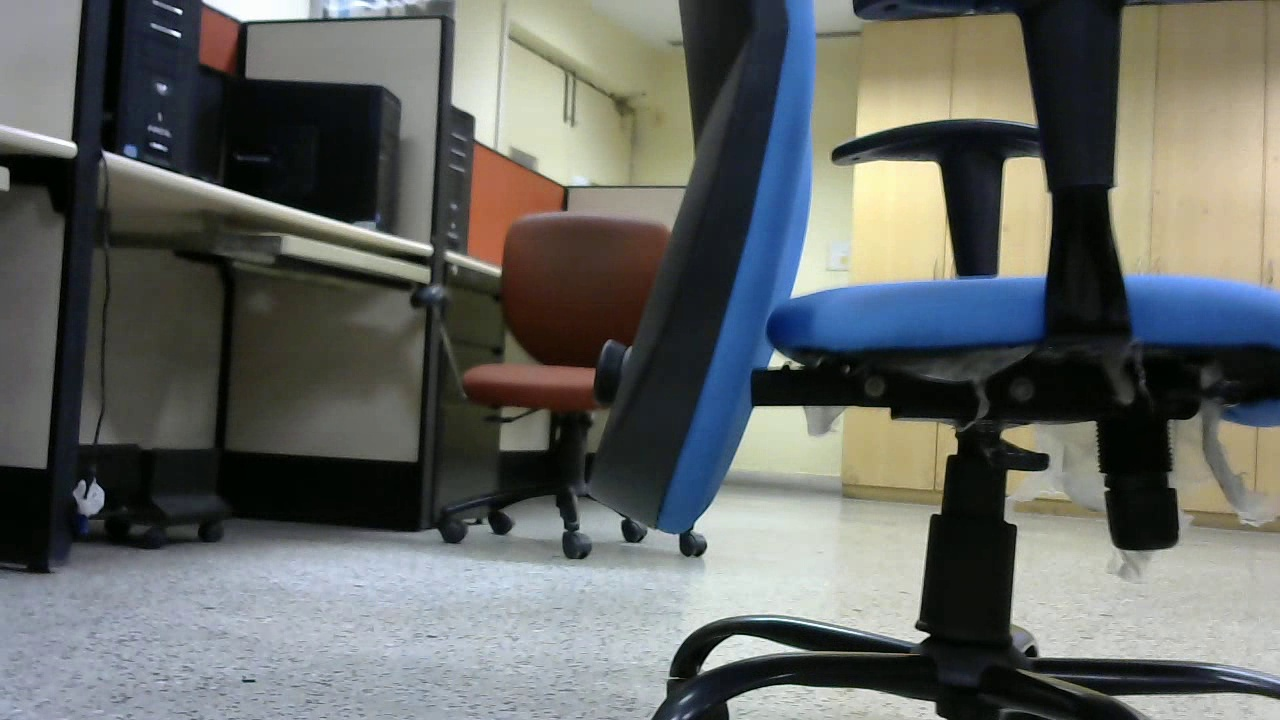chair: (587, 6, 1280, 720), (405, 205, 709, 562)
